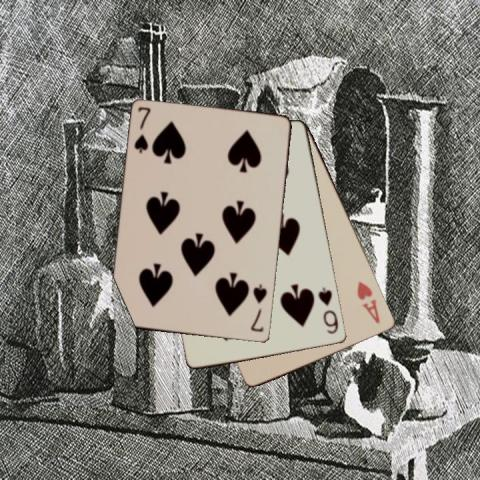6s: (315, 285, 340, 335)
7s: (248, 281, 269, 334), (131, 104, 152, 155)
Ah: (354, 278, 382, 325)
